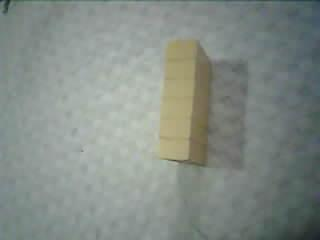lego: (154, 38, 212, 165)
